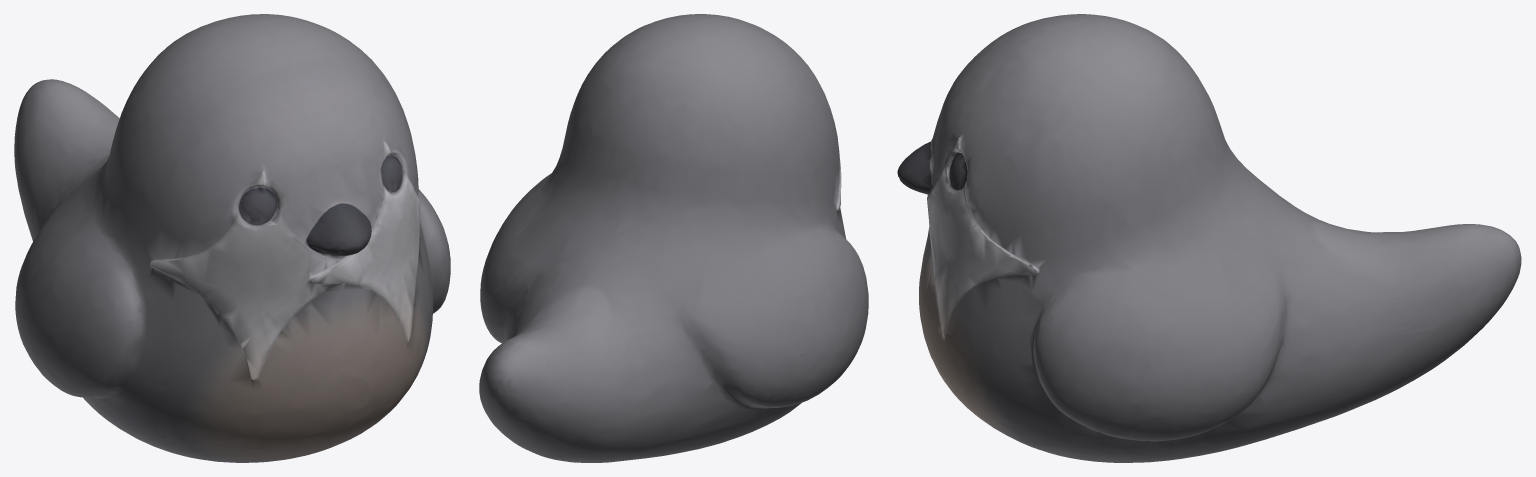
The model's file is yuna_bird.fbx.
3 renders of one model, left to right at view 1: azimuth 30°, elevation 25°; view 2: azimuth 150°, elevation 25°; view 3: azimuth 270°, elevation 25°, orthographic. The views are drawn at different scales.
Visible parts, largest first — view 1: Mesh_0; view 2: Mesh_0; view 3: Mesh_0.
Part boxes in pixels (x1,y1,x2,y2): Mesh_0: [14, 14, 450, 462]; Mesh_0: [479, 14, 868, 462]; Mesh_0: [897, 14, 1521, 462].
Bounding box in the file's own units: 132 × 137 × 190.
1 material, 1 textured.
